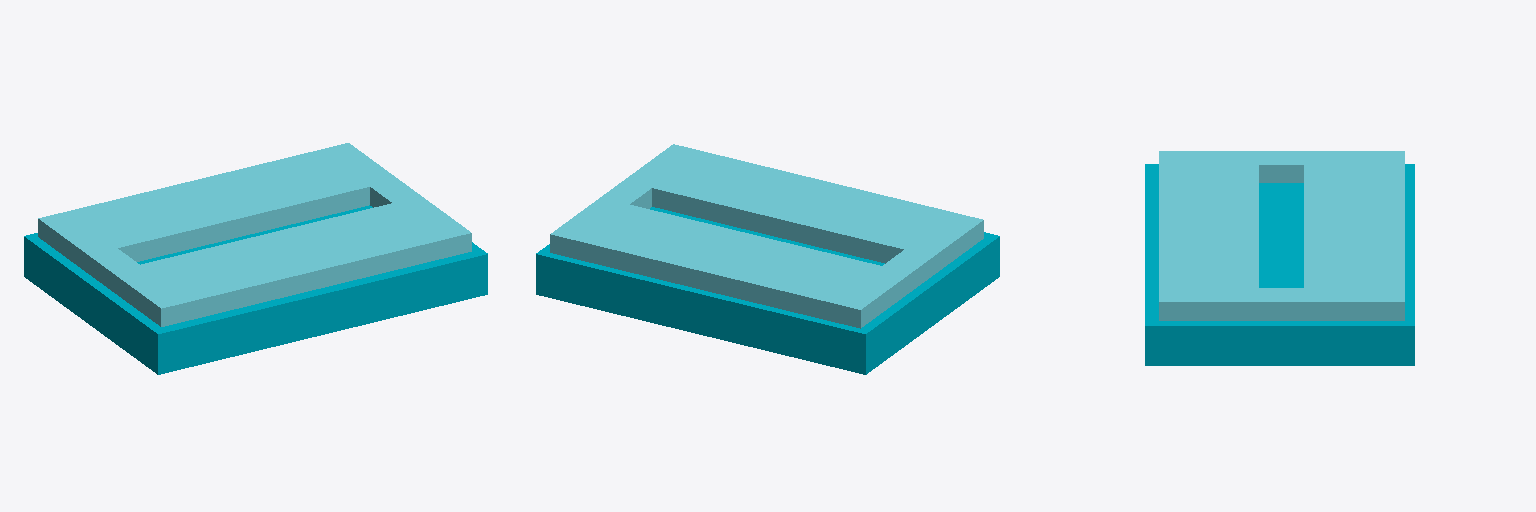
3 views of the same model, side by side, from view 1: azimuth 30°, elevation 25°; view 2: azimuth 150°, elevation 25°; view 3: azimuth 270°, elevation 25° (orthographic).
Visible parts, largest first — view 1: group[number redacted], group[number redacted], group[number redacted], group[number redacted], group[number redacted]; view 2: group[number redacted], group[number redacted], group[number redacted], group[number redacted], group[number redacted]; view 3: group[number redacted], group[number redacted], group[number redacted], group[number redacted], group[number redacted].
Part boxes in pixels (x1,y1,x2,y2): group[number redacted]: (24,205,487,374); group[number redacted]: (111,196,471,326); group[number redacted]: (38,150,369,273); group[number redacted]: (321,143,469,239); group[number redacted]: (41,220,162,317); group[number redacted]: (536,207,999,374); group[number redacted]: (624,146,983,274); group[number redacted]: (579,205,910,328); group[number redacted]: (550,144,701,259); group[number redacted]: (835,250,933,310); group[number redacted]: (1145,164,1414,365); group[number redacted]: (1159,151,1258,320); group[number redacted]: (1304,151,1404,320); group[number redacted]: (1159,288,1404,320); group[number redacted]: (1259,151,1398,182).
Bounding box in the file's own units: 0.34 × 0.0583 × 0.24.